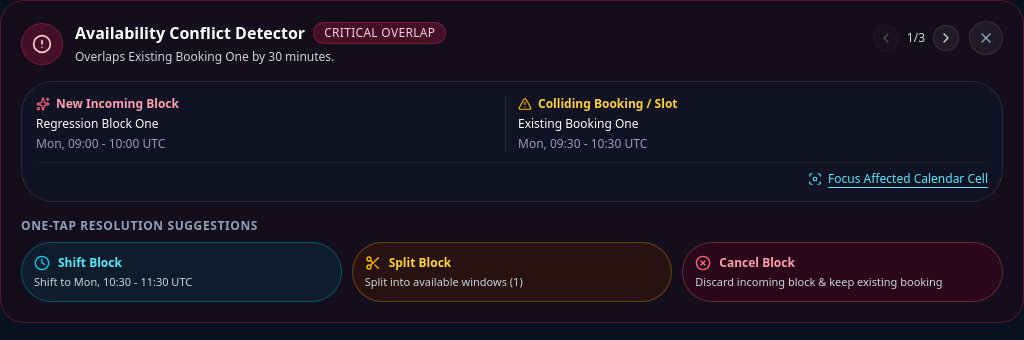
it: AvailabilityConflictDetector failure handling (regression) › index boundary after removal › clamps the active index and keeps rendering after the last conflict is dismissed
The image size is (1024, 340).
// Step to the final conflict so the active index is at the end of the list.
Click the button named "Next conflict" at (946, 38), box [933,25,959,51]
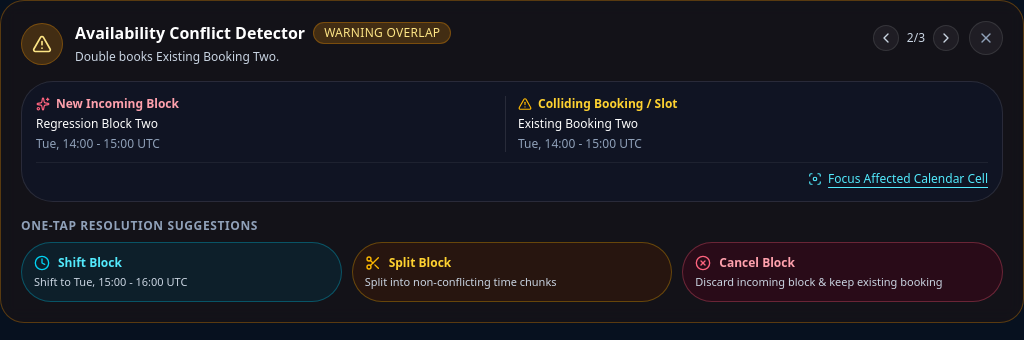
Click the button named "Next conflict" at (946, 38), box [933,25,959,51]
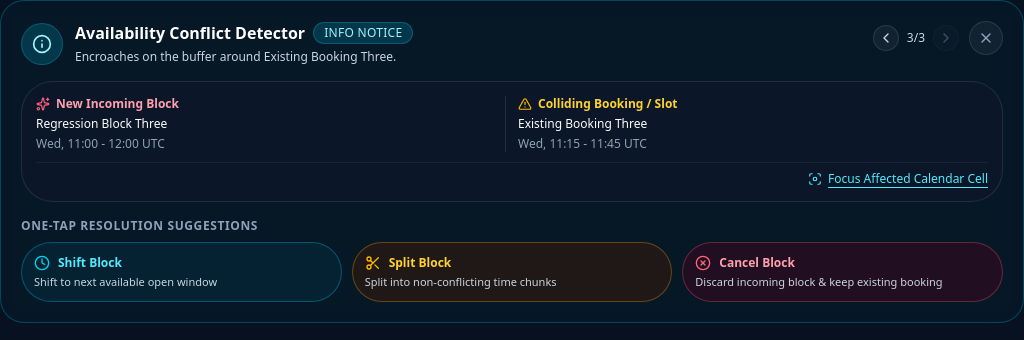
Expected: the text "Regression Block Three" is shown, [36,115,167,132]
Click the button named "Dismiss conflict notice for Regression Block Three" at (986, 38), box [969,21,1003,55]
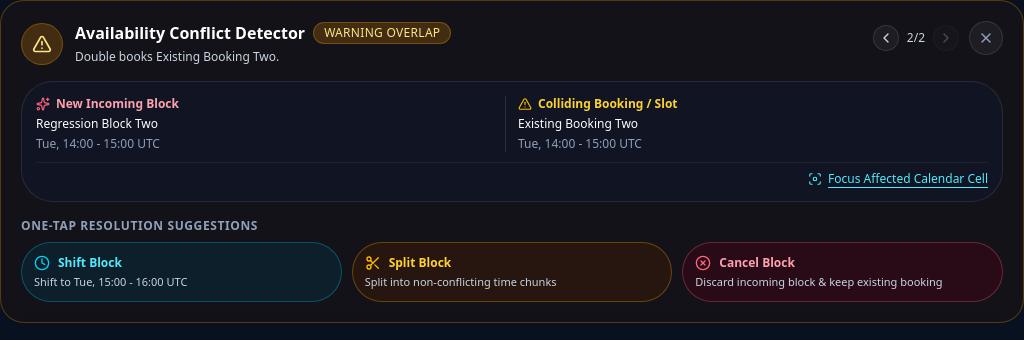
Expected: the text "Regression Block Two" is shown, [36,115,158,132]
Expected: the text "Regression Block Three" is gone
